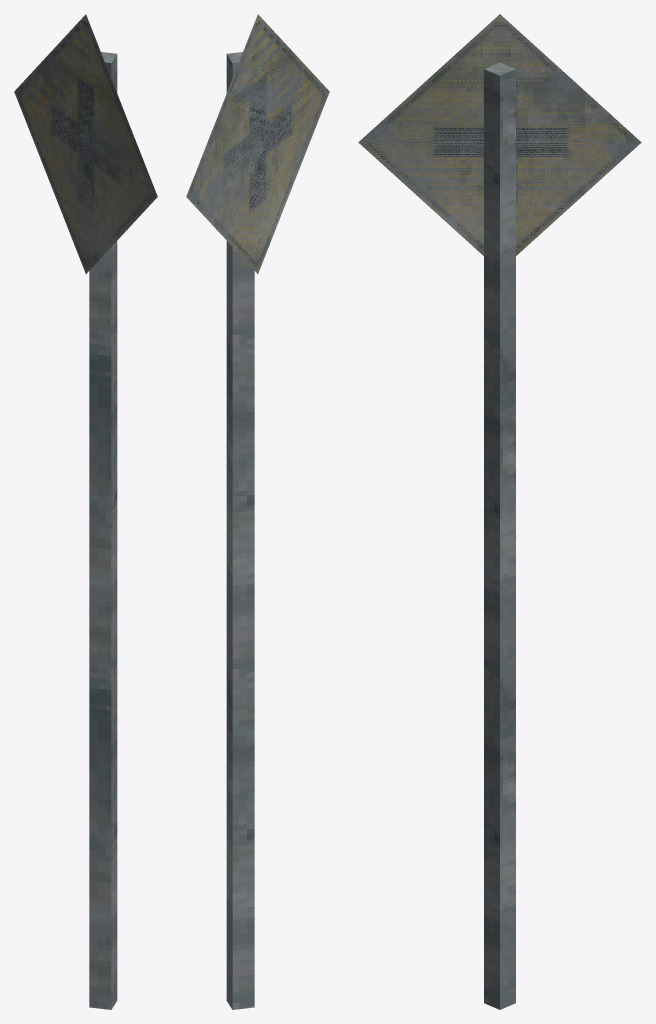
File: ws_roadwarning_04.obj
3 renders of one model, left to right at view 1: azimuth 30°, elevation 25°; view 2: azimuth 150°, elevation 25°; view 3: azimuth 270°, elevation 25°, orthographic.
Parts seen in each view (by area): view 1: ws_roadwarning_04_L0; view 2: ws_roadwarning_04_L0; view 3: ws_roadwarning_04_L0.
Part boxes in pixels (x1,y1,x2,y2): ws_roadwarning_04_L0: (14,14,157,1009); ws_roadwarning_04_L0: (186,14,329,1009); ws_roadwarning_04_L0: (358,14,641,1009).
Size of the model in its own units: 0.0983 by 2.98 by 0.7801.
2 materials, 2 textured.
